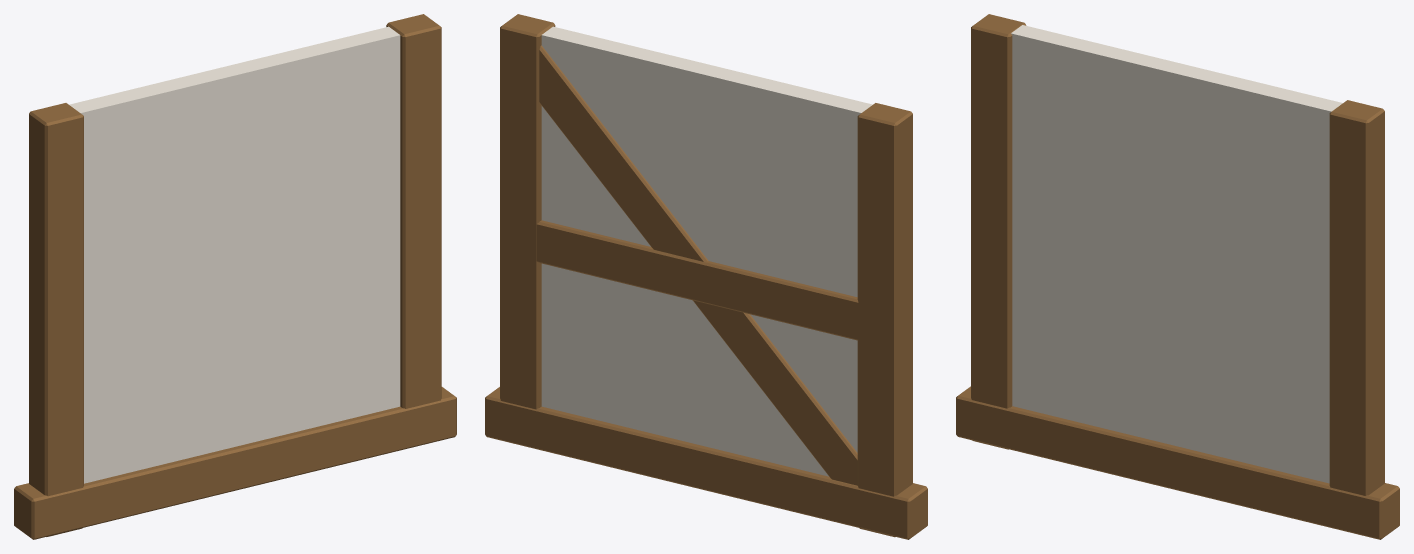
File: WallHDiagL.fbx
3 views of the same model, side by side, from view 1: azimuth 30°, elevation 25°; view 2: azimuth 150°, elevation 25°; view 3: azimuth 330°, elevation 25° (orthographic).
Parts seen in each view (by area): view 1: Cube.082, Cube.095, Cube.098, Cube.094; view 2: Cube.082, Cube.095, Cube.098, Cube.093, Cube.094, Cube.096; view 3: Cube.082, Cube.094, Cube.098, Cube.095.
Boxes of the visible parts, x1,y1,x2,y2 form: Cube.082: (69,26,400,483); Cube.095: (29,103,83,536); Cube.098: (14,387,456,539); Cube.094: (386,14,441,408); Cube.082: (541,26,872,476); Cube.095: (857,103,912,537); Cube.098: (485,387,927,539); Cube.093: (539,45,857,485); Cube.094: (500,14,555,409); Cube.096: (536,220,858,340); Cube.082: (1011,25,1342,483); Cube.094: (1329,100,1384,495); Cube.098: (956,386,1399,539); Cube.095: (971,14,1026,449).
Size of the model in its own units: 216 by 202 by 17.27.
